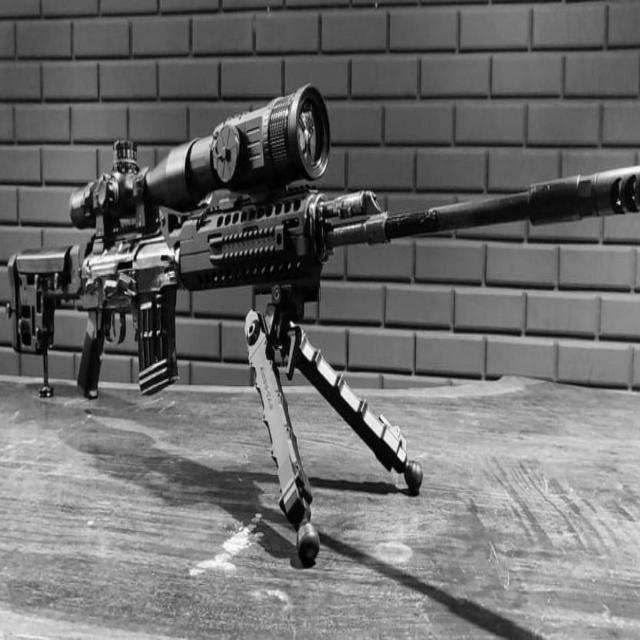Sniper: (5, 60, 632, 541)
